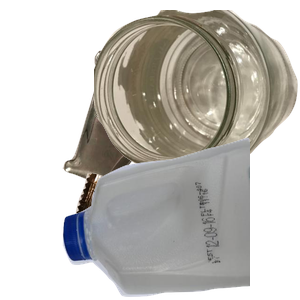glass: (94, 10, 300, 184)
metal: (60, 47, 300, 227)
plastic: (60, 135, 300, 300)
trash: (73, 171, 242, 300)
